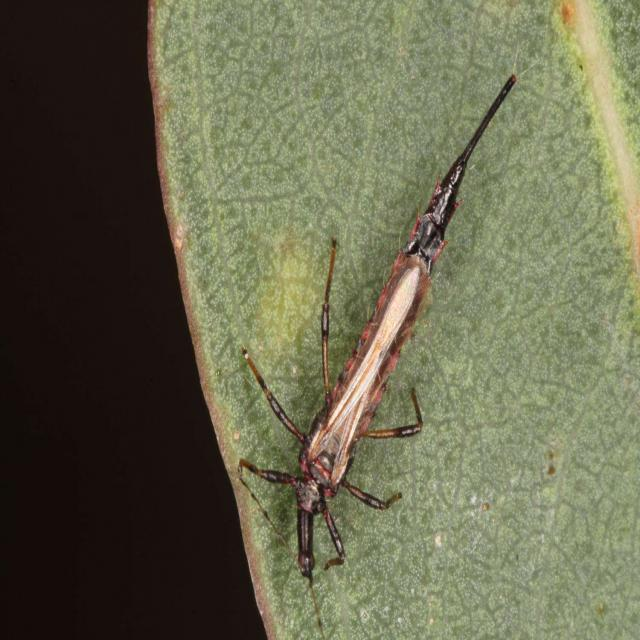Thrip-Adult-: (236, 50, 542, 581)
